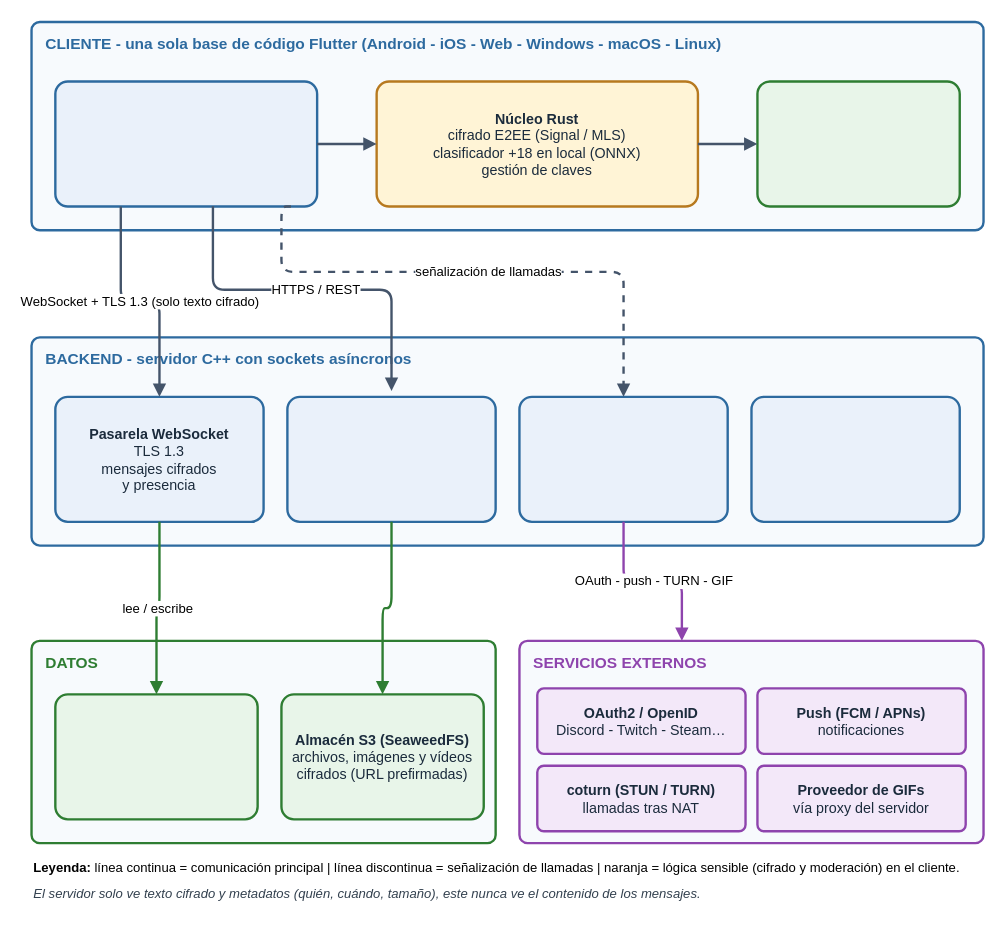
Image size: 1004x934. Some labels were removed from this diagram. The shapes that lost their labels are listed below. From the top down, each one's centre as x and y in pixels, then its label:
At pixel 186 143: "Interfaz Flutter / Dart arquitectura Bloc puente: flutter_rust_bridge".
At pixel 858 143: "SQLite + SQLCipher BBDD local cifrada (mensajes y claves)".
At pixel 391 458: "API REST (HTTPS) cuentas, roles, eventos, denuncias, vinculación".
At pixel 623 458: "Señalización WebRTC llamadas y pantalla (medios P2P / coturn)".
At pixel 855 458: "Moderación servidor solo contenido no cifrado (avatares, banners, canales)".
At pixel 156 756: "MySQL 8.4 LTS usuarios, roles, eventos cola de mensajes cifrados".
